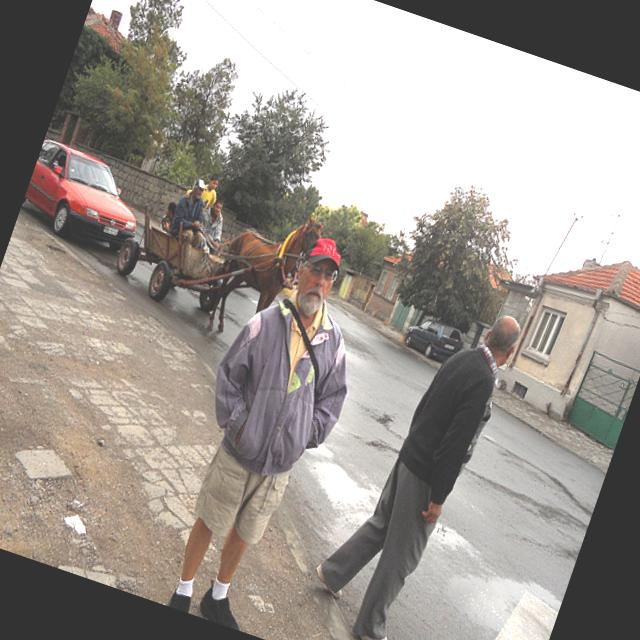Vehicle: (18, 142, 152, 250), (399, 313, 468, 367)
